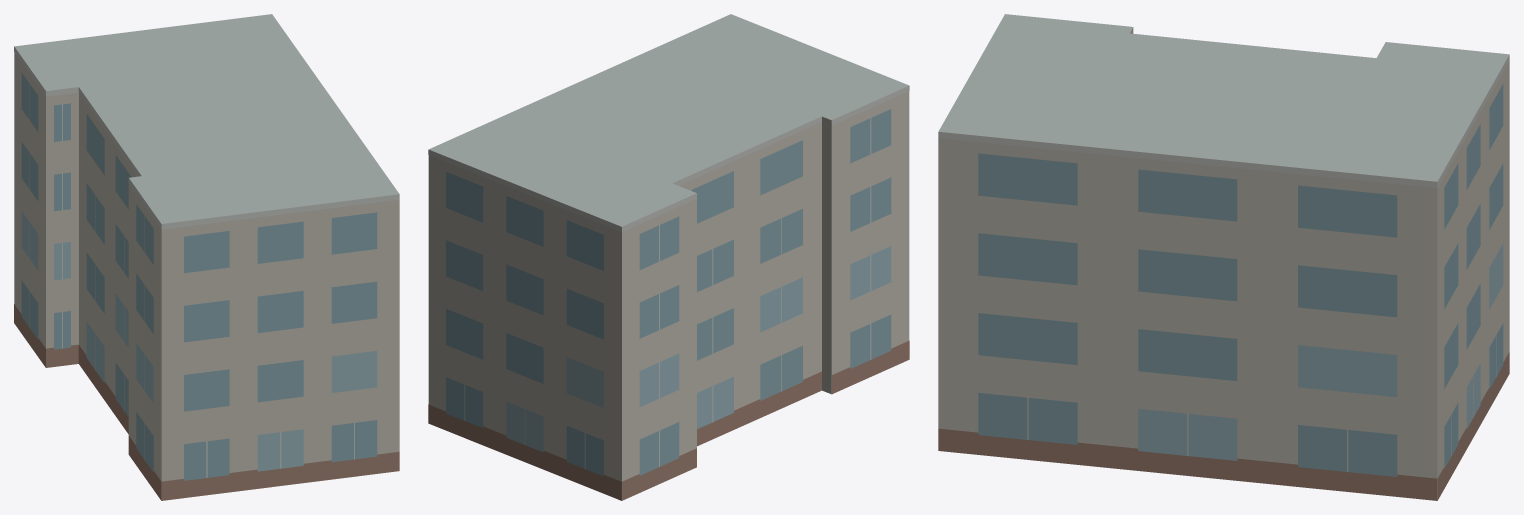
Rendered from survey-upis-32994068.glb.
The picture shows the model from 3 angles, left to right: view 1: azimuth 30°, elevation 25°; view 2: azimuth 150°, elevation 25°; view 3: azimuth 270°, elevation 25°; orthographic projection. The views are drawn at different scales.
Visible parts, largest first — view 1: survey-upis-32994068.tmp; view 2: survey-upis-32994068.tmp; view 3: survey-upis-32994068.tmp.
Part boxes in pixels (left/top/right/bottom): survey-upis-32994068.tmp: left=14, top=14, right=399, bottom=500; survey-upis-32994068.tmp: left=428, top=14, right=909, bottom=500; survey-upis-32994068.tmp: left=938, top=14, right=1509, bottom=500.
Bounding box in the file's own units: 13.76 × 12.2 × 19.81.
